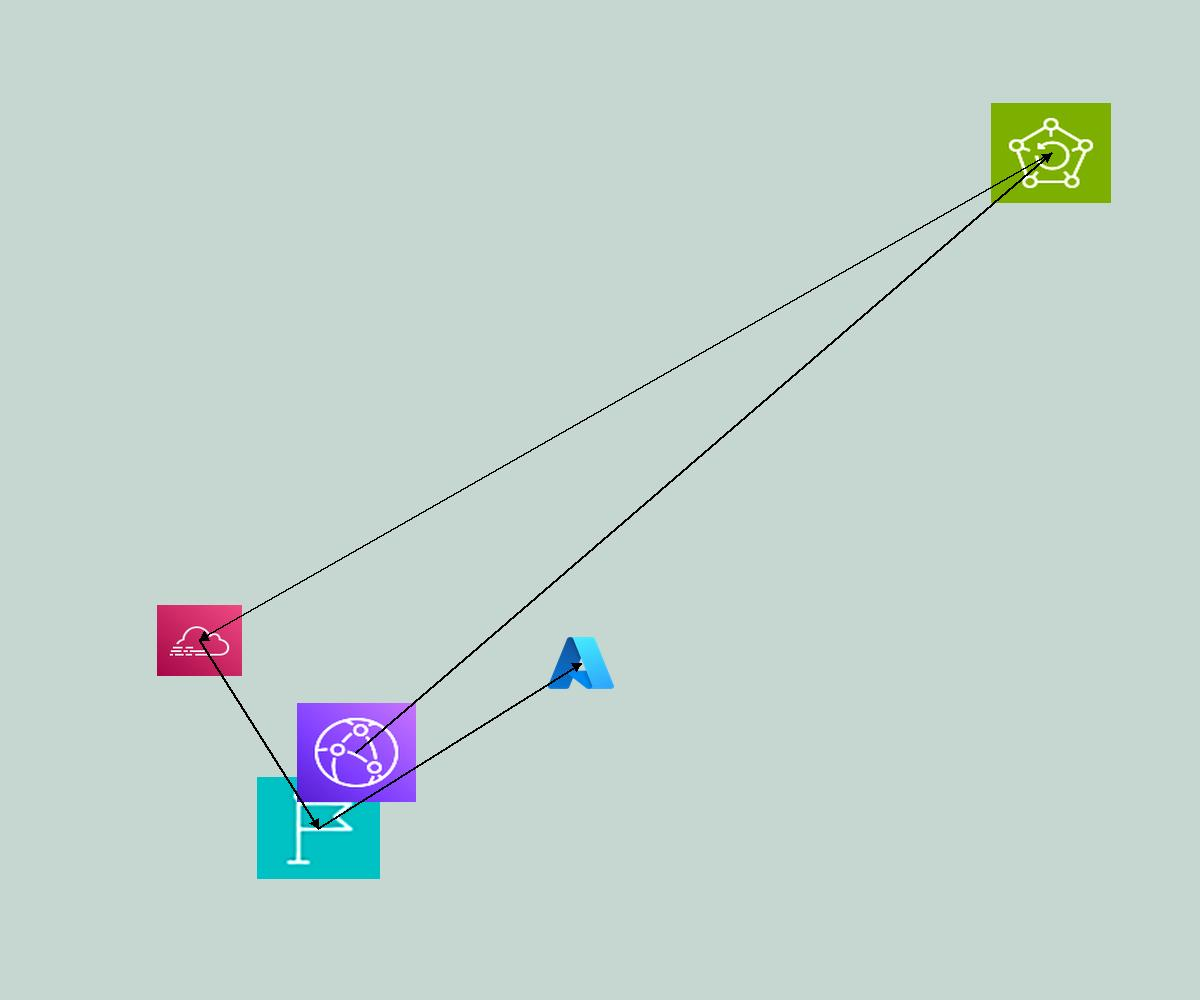AWS-Backup: (991, 103, 1111, 203)
AWS-CloudFront: (297, 703, 416, 802)
AWS-CloudTrail: (157, 605, 242, 676)
AWS-Region: (257, 777, 380, 879)
Azure_services: (545, 633, 617, 693)
